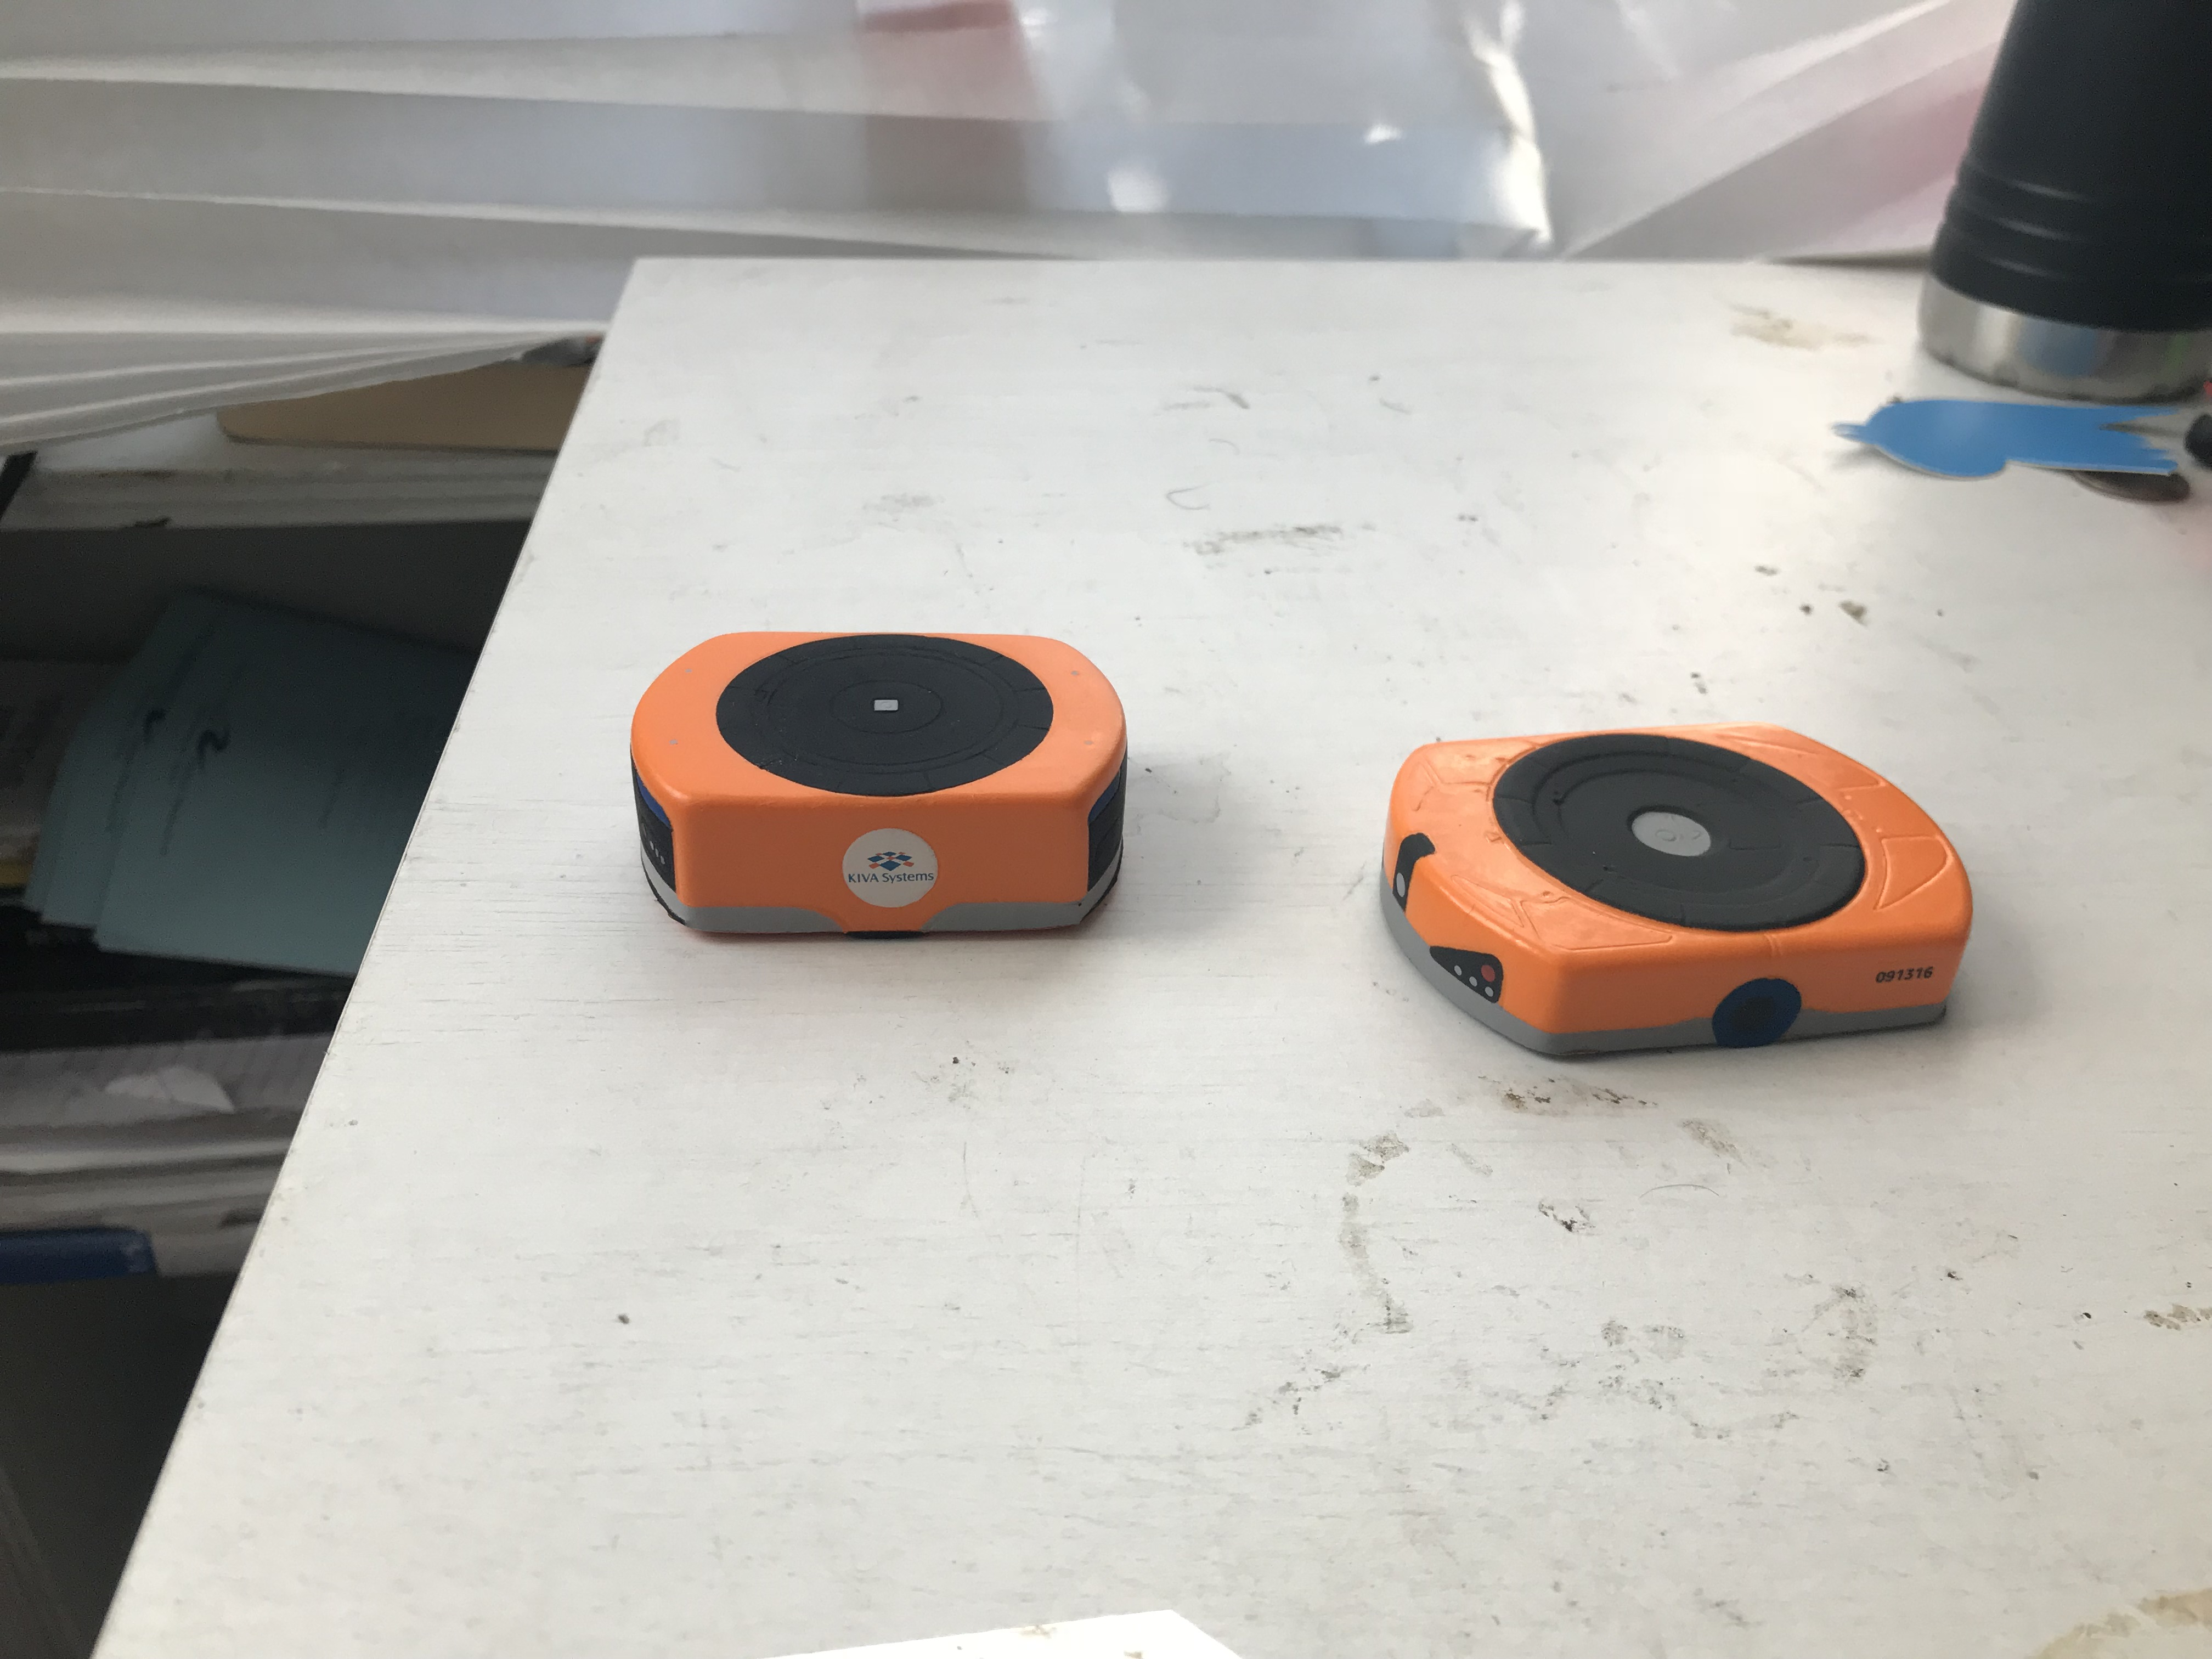amazon_bot: (1371, 706, 1998, 1073), (608, 619, 1155, 951)
